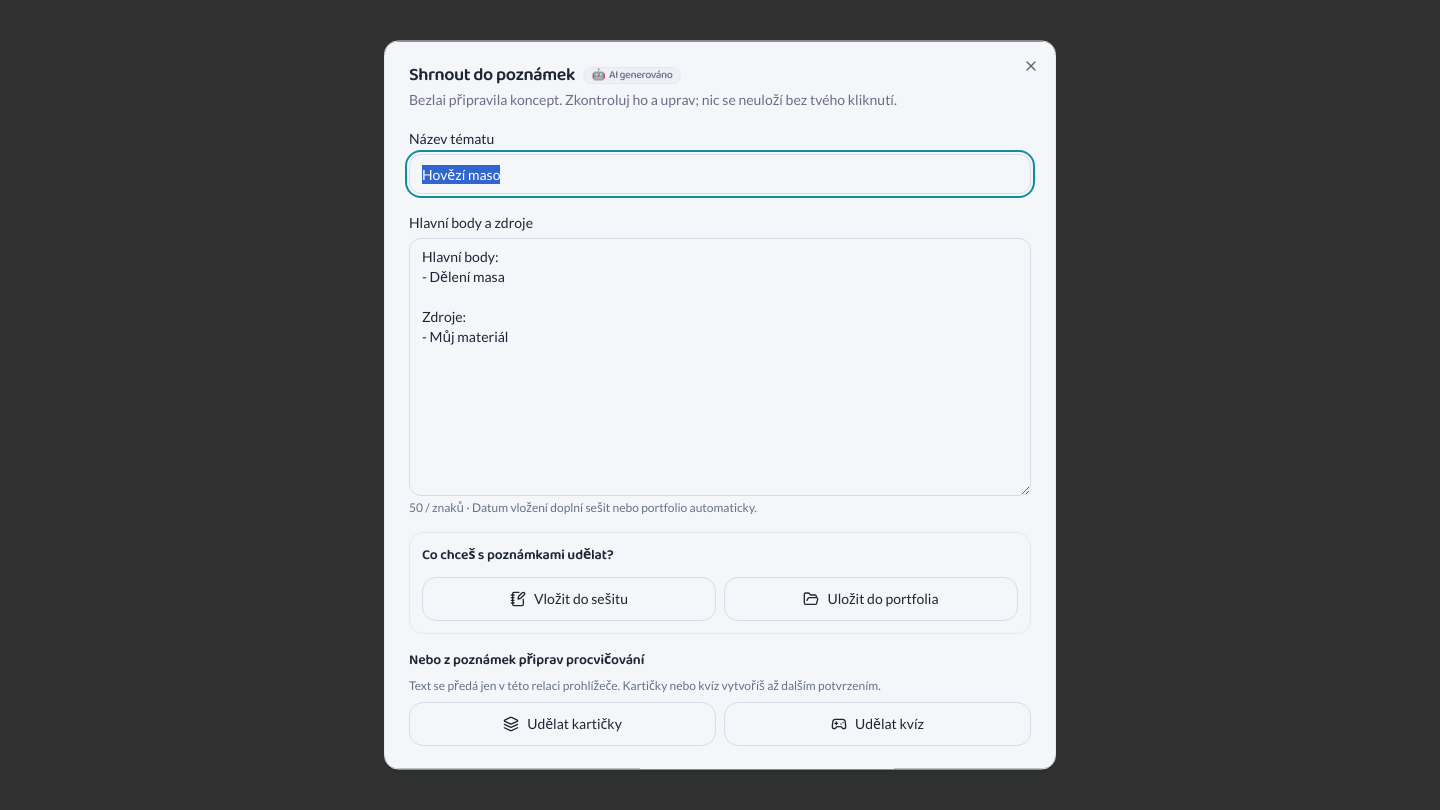
Test: Bezlai – ručně potvrzené uložení poznámek › bez sešitu nabídne nový, vloží poslední stránku až po kliknutí a ukáže odkaz
Later steps or results of the test are not shown.
Click the button "Vložit do sešitu" at (569, 598), box [422, 576, 716, 620]
(page scrolled)
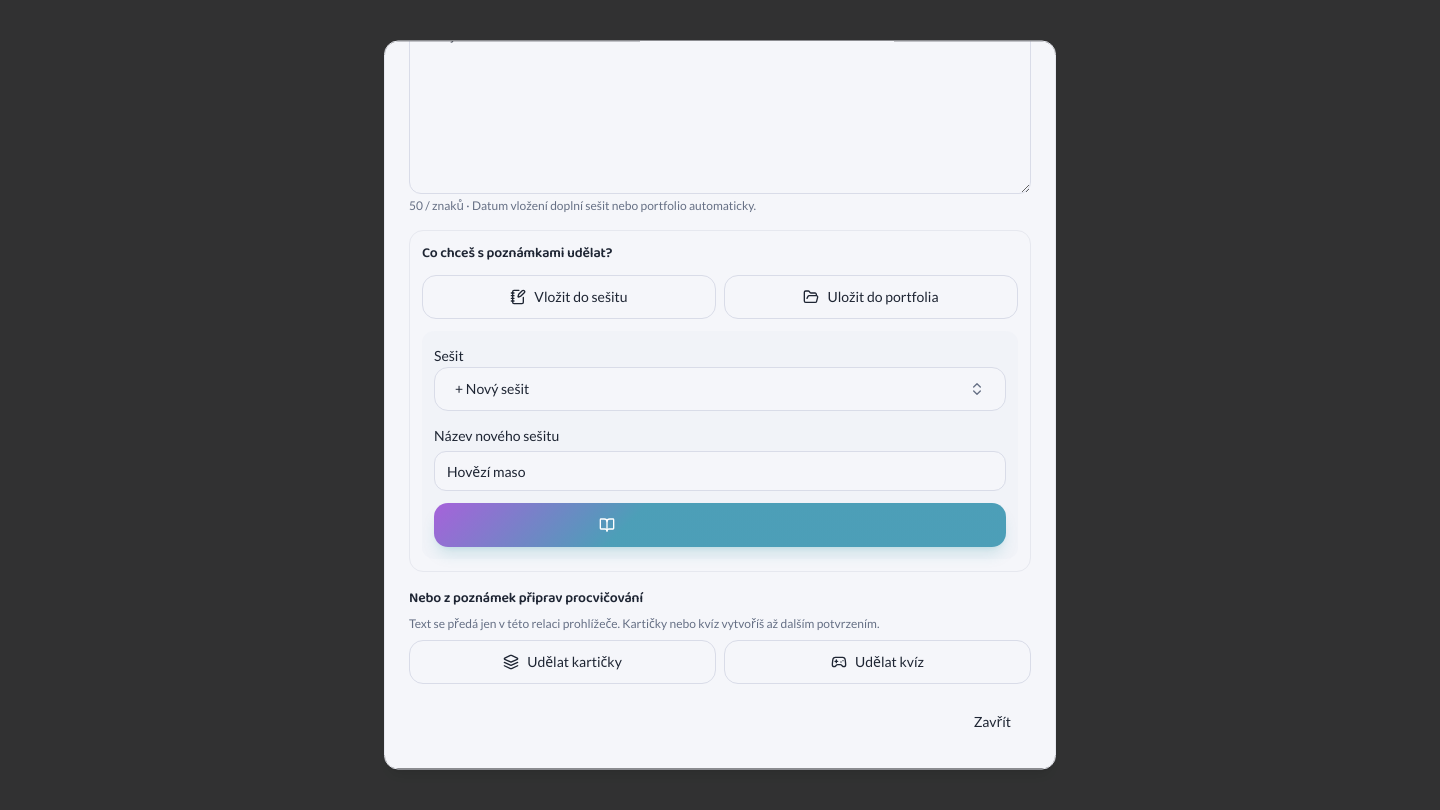
expect the field labelled "Název nového sešitu" holds "Hovězí maso": met, box [434, 452, 1006, 492]
